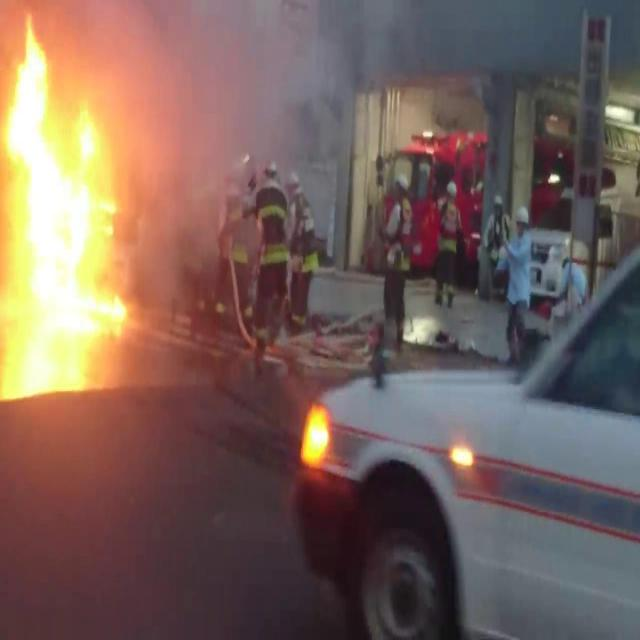fire: (2, 27, 138, 400)
